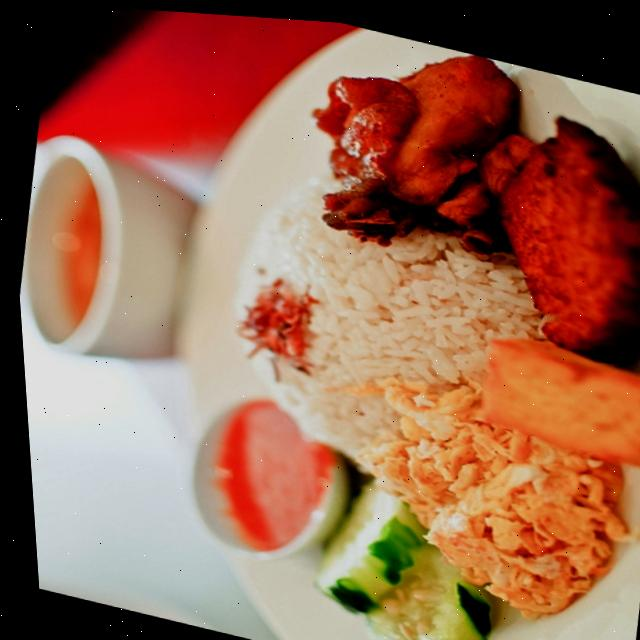米饭主食: (65, 3, 640, 640)
